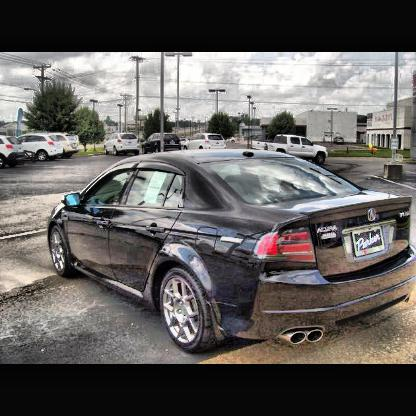Acura TL Type-S 2008: (48, 147, 416, 355)
